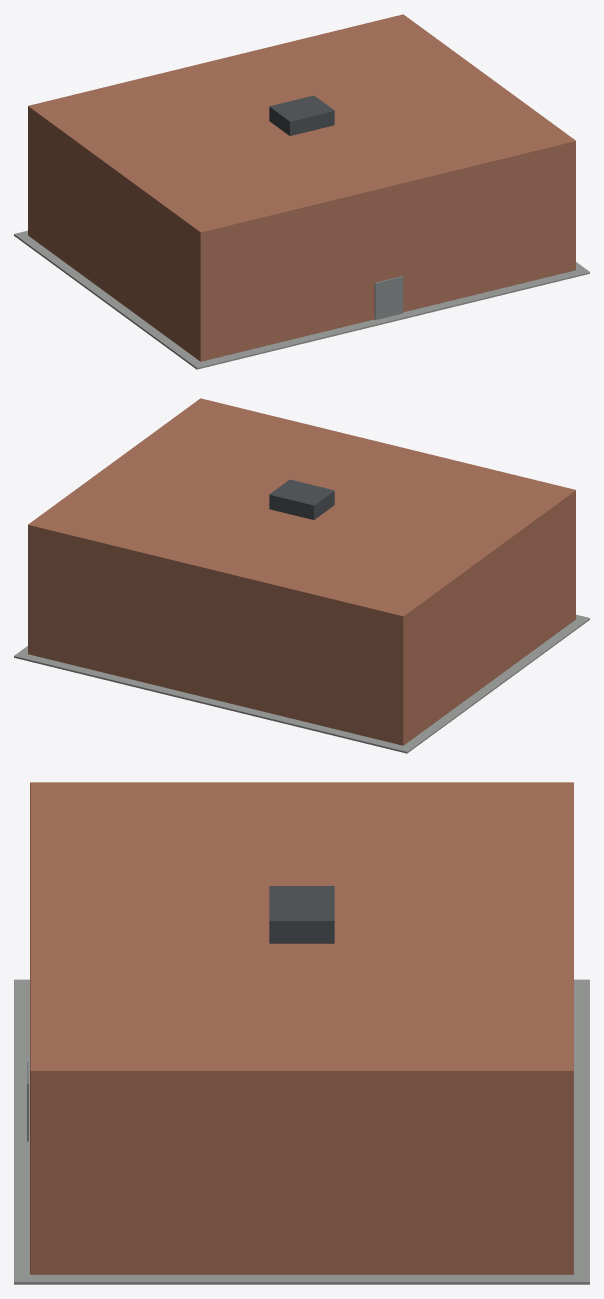
File: Building_Landmark_017.glb
3 views of the same model, one above another, from view 1: azimuth 30°, elevation 25°; view 2: azimuth 150°, elevation 25°; view 3: azimuth 270°, elevation 25° (orthographic). The views are drawn at different scales.
Parts seen in each view (by area): view 1: Building_Landmark_017; view 2: Building_Landmark_017; view 3: Building_Landmark_017.
Part boxes in pixels (x1,y1,x2,y2): Building_Landmark_017: (14,14,589,369); Building_Landmark_017: (14,398,589,753); Building_Landmark_017: (14,782,589,1284).
Bounding box in the file's own units: 33.33 × 11.86 × 26.85.
